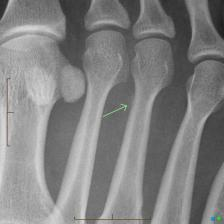stress-fracture: (0, 0, 216, 224)
